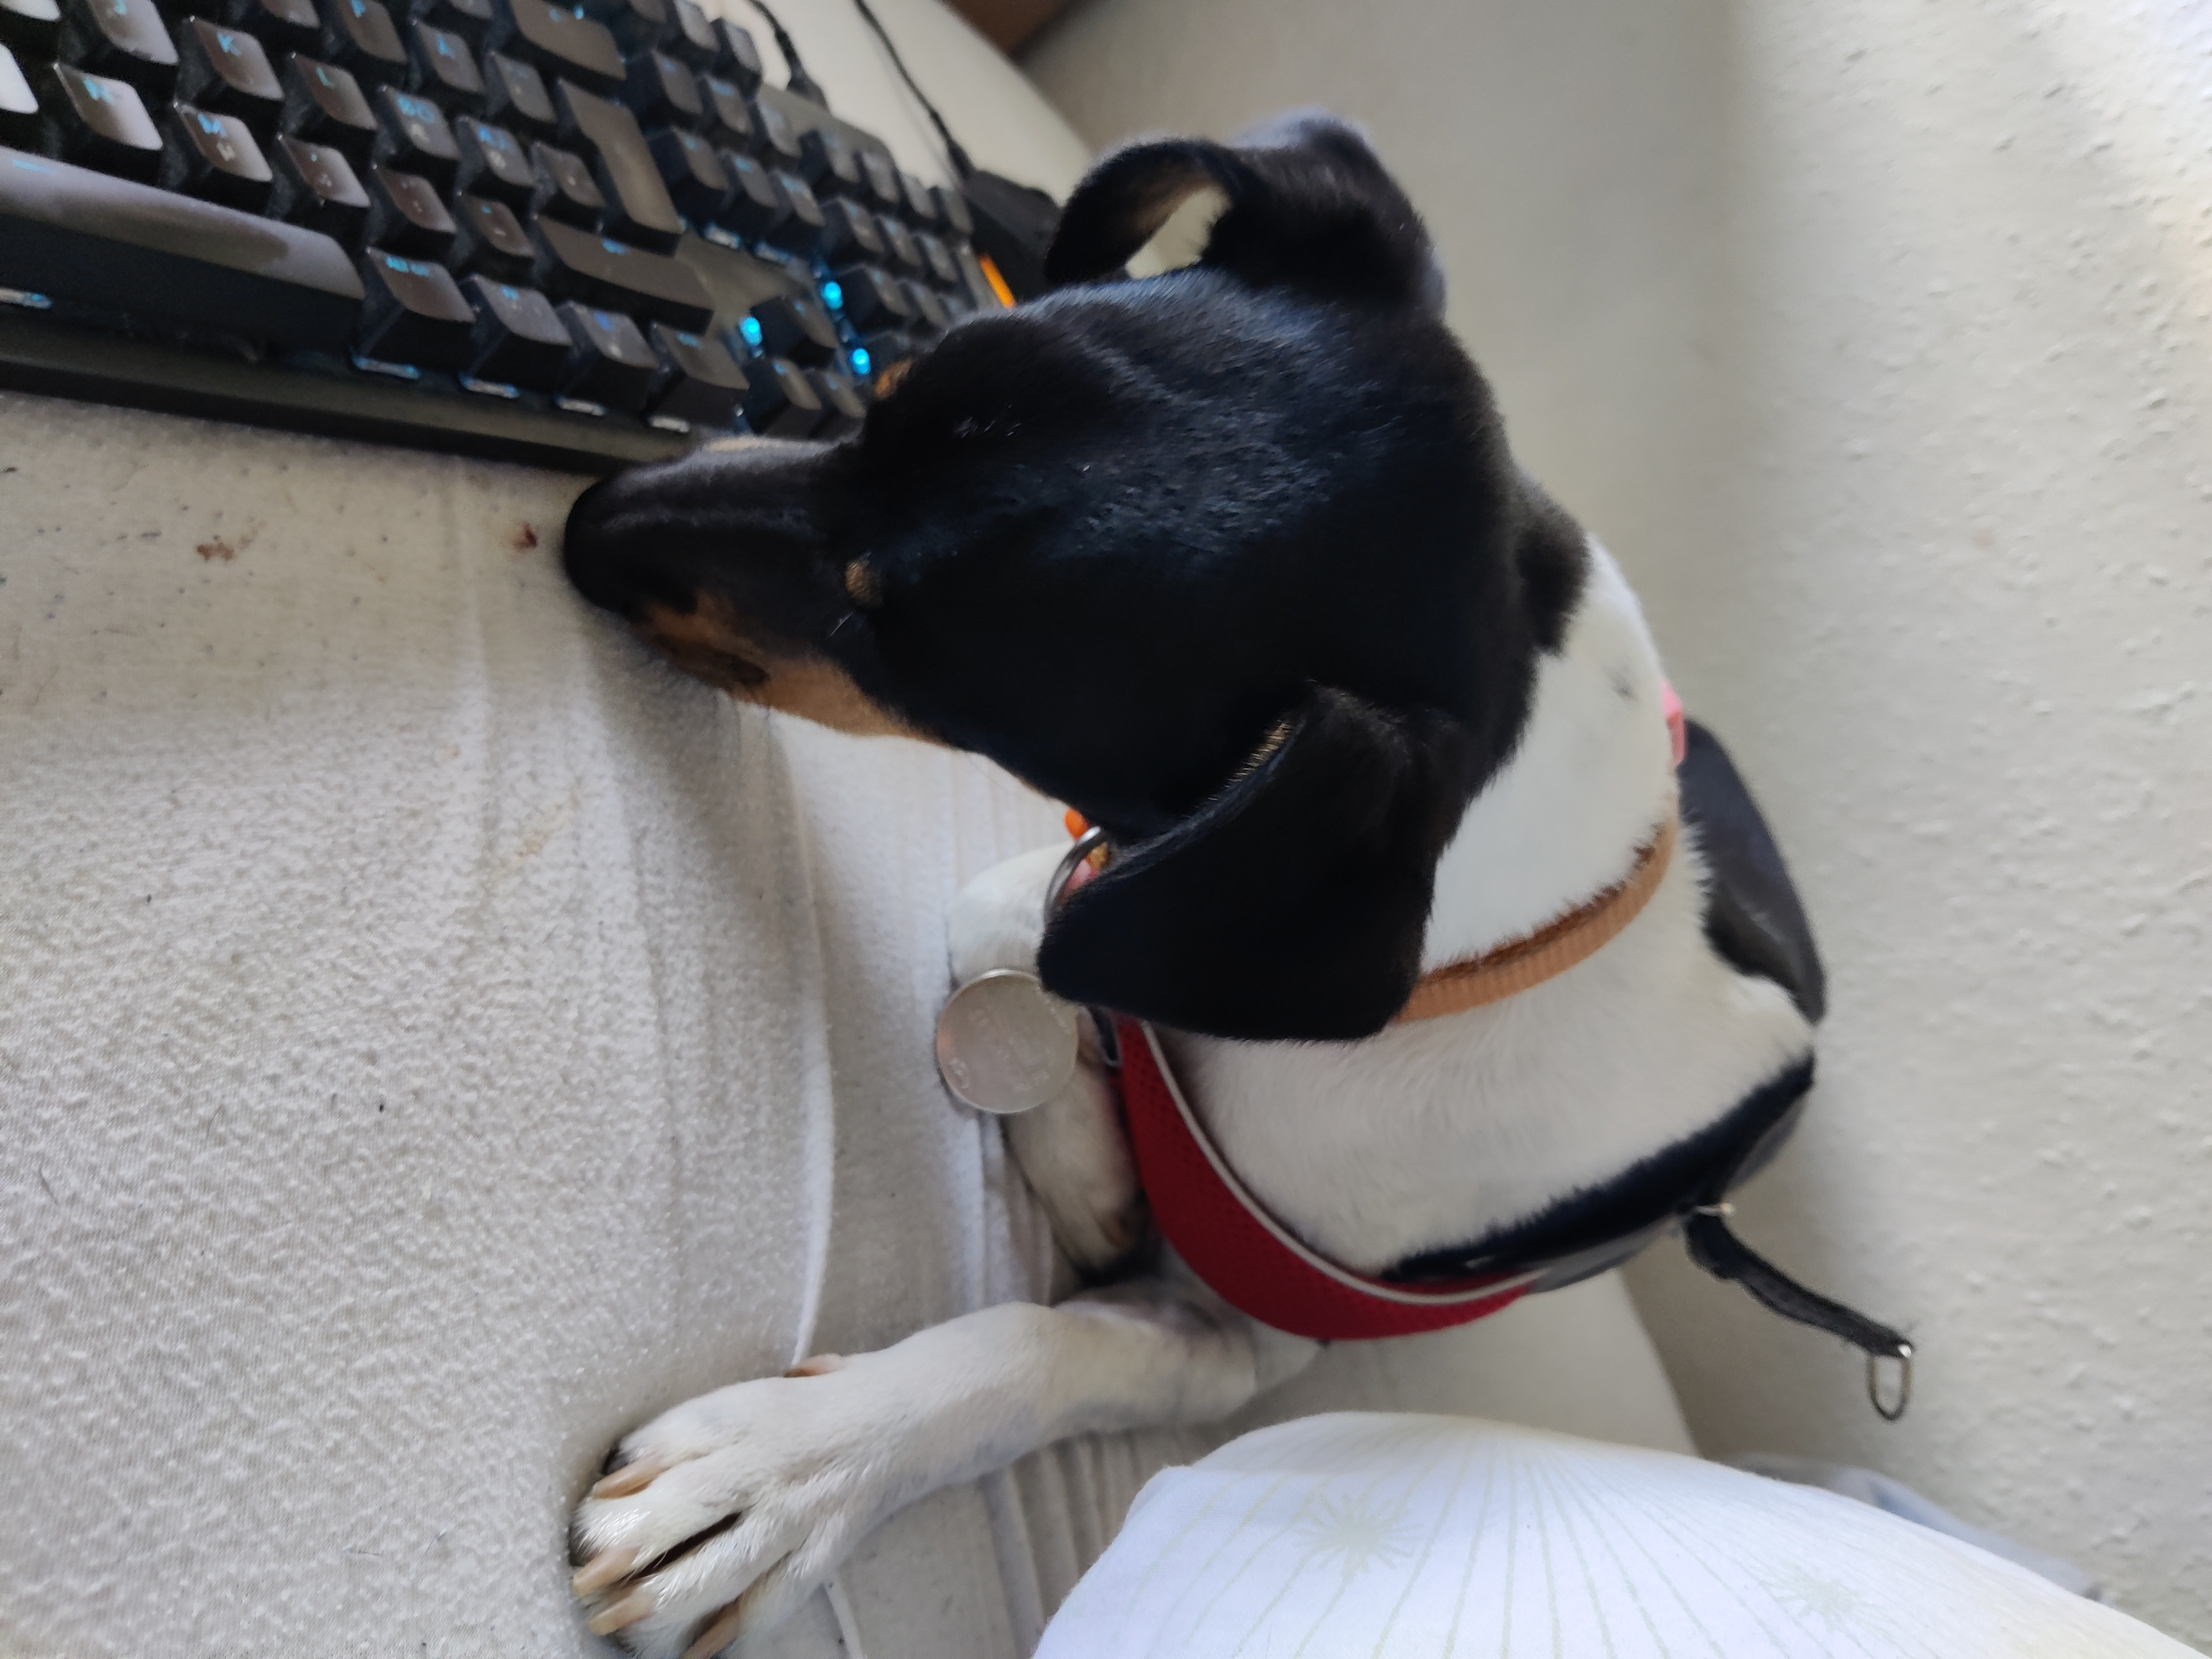Dog: (536, 85, 1844, 1659)
